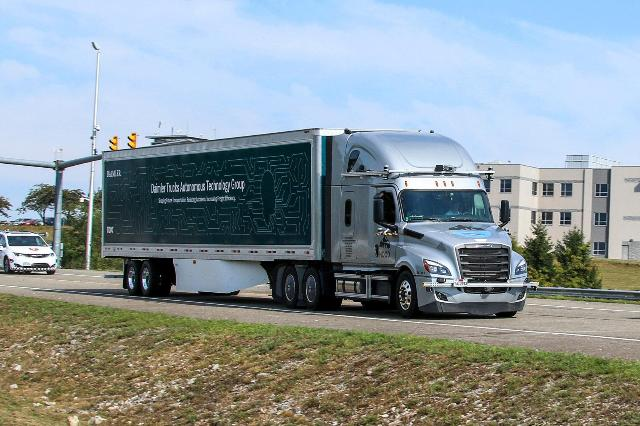car: (0, 227, 59, 279)
truck: (95, 128, 543, 330)
